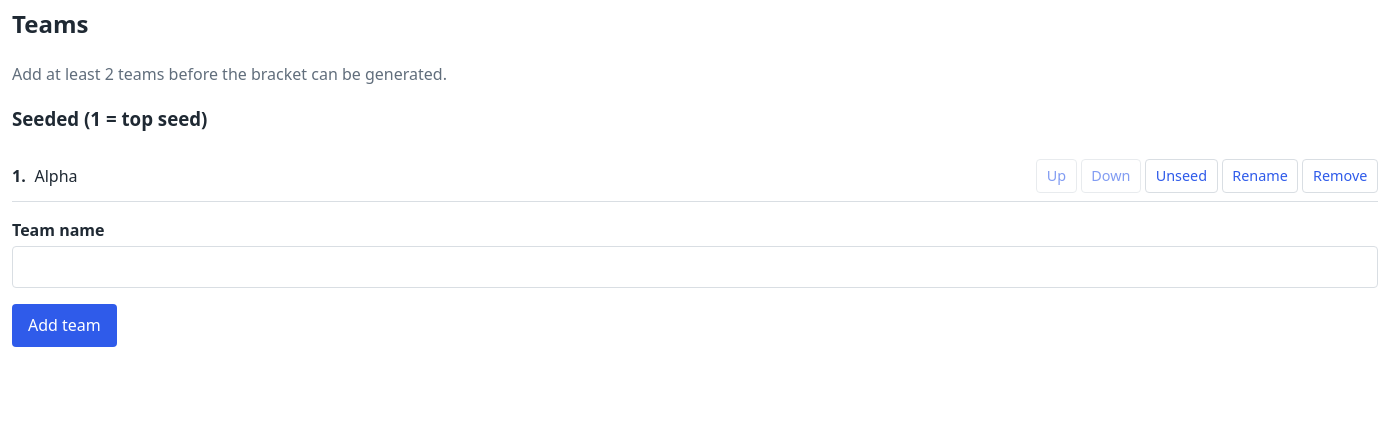
TeamManager › renames a team
Click the button with aria-label "Rename Alpha": [1260, 176] box [1222,159,1298,192]
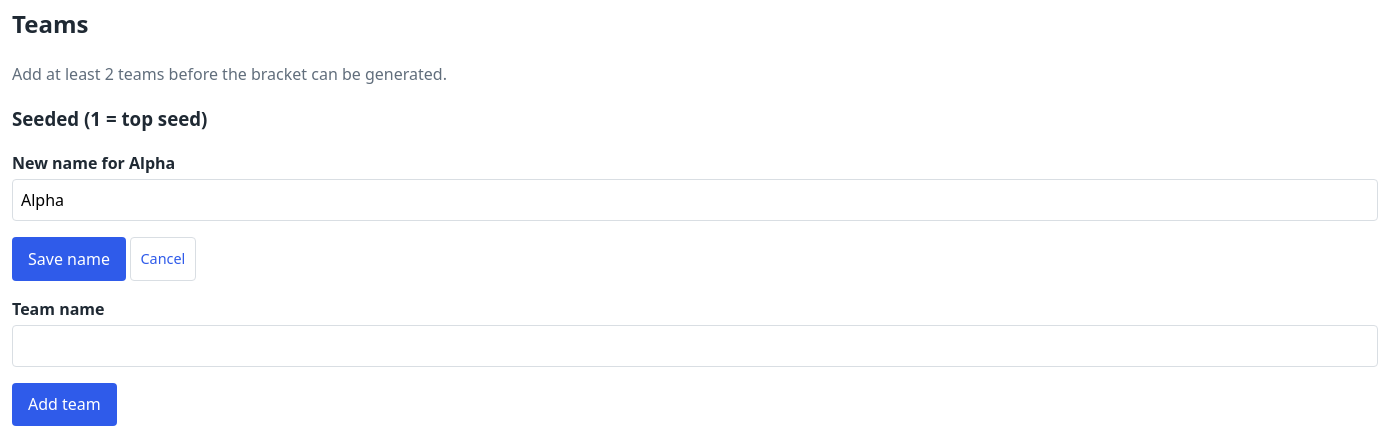
Replace the text in the field labelled "New name for Alpha" with "Alpha Squad": [695, 200] box [12,179,1378,221]
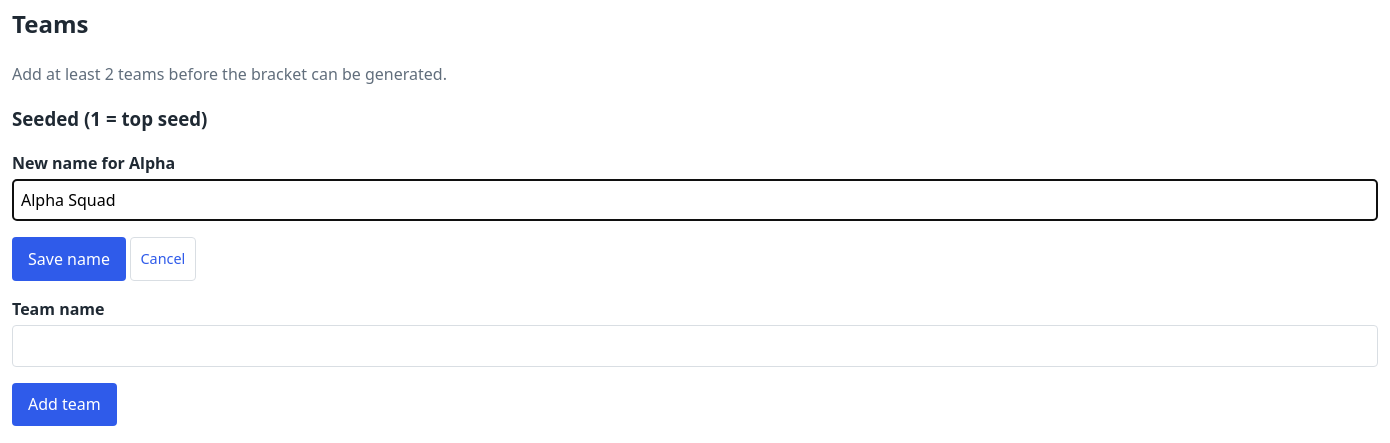
Click the button "Save name": [69, 259] box [12,237,126,280]
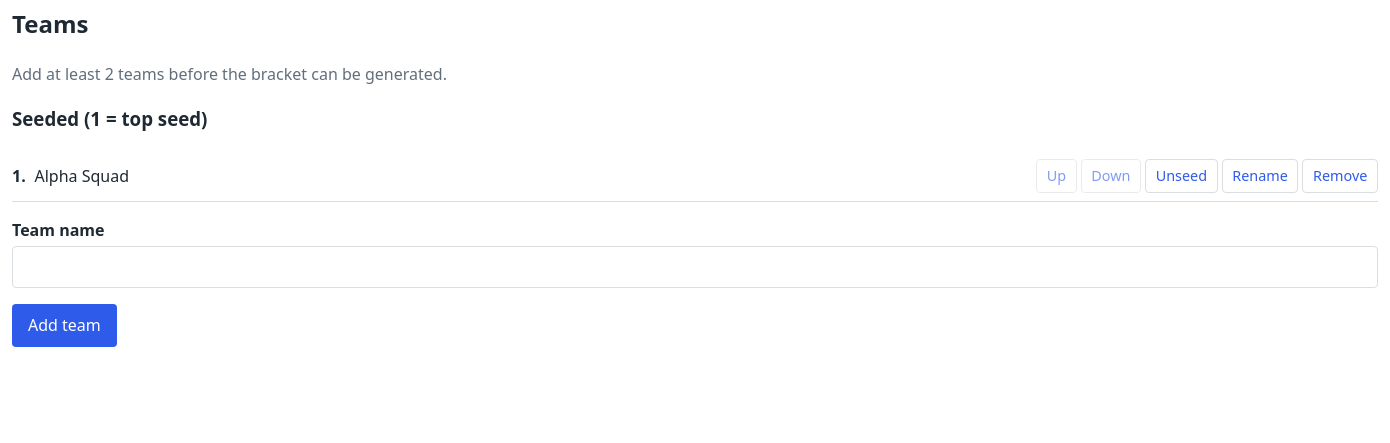
expect the text "Alpha Squad" is shown: met, box [34,165,129,187]
